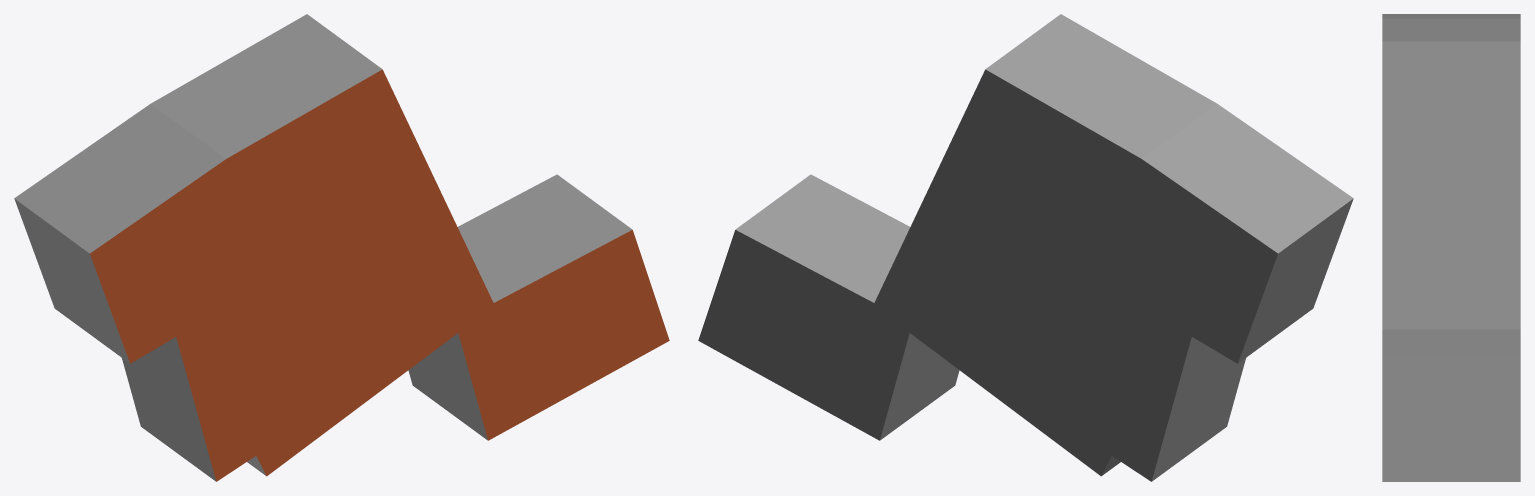
File: construction_5483_assumed_A_Casa_h6m.obj
The picture shows the model from 3 angles, left to right: view 1: azimuth 30°, elevation 25°; view 2: azimuth 150°, elevation 25°; view 3: azimuth 270°, elevation 25°; orthographic projection. The views are drawn at different scales.
Parts seen in each view (by area): view 1: construction_5483_assumed_A_Casa; view 2: construction_5483_assumed_A_Casa; view 3: construction_5483_assumed_A_Casa.
Boxes of the visible parts, x1=… form: construction_5483_assumed_A_Casa: x1=14, y1=14, x2=669, y2=481; construction_5483_assumed_A_Casa: x1=698, y1=14, x2=1353, y2=481; construction_5483_assumed_A_Casa: x1=1382, y1=14, x2=1520, y2=481.
Size of the model in its own units: 26.58 by 17.4 by 6.
